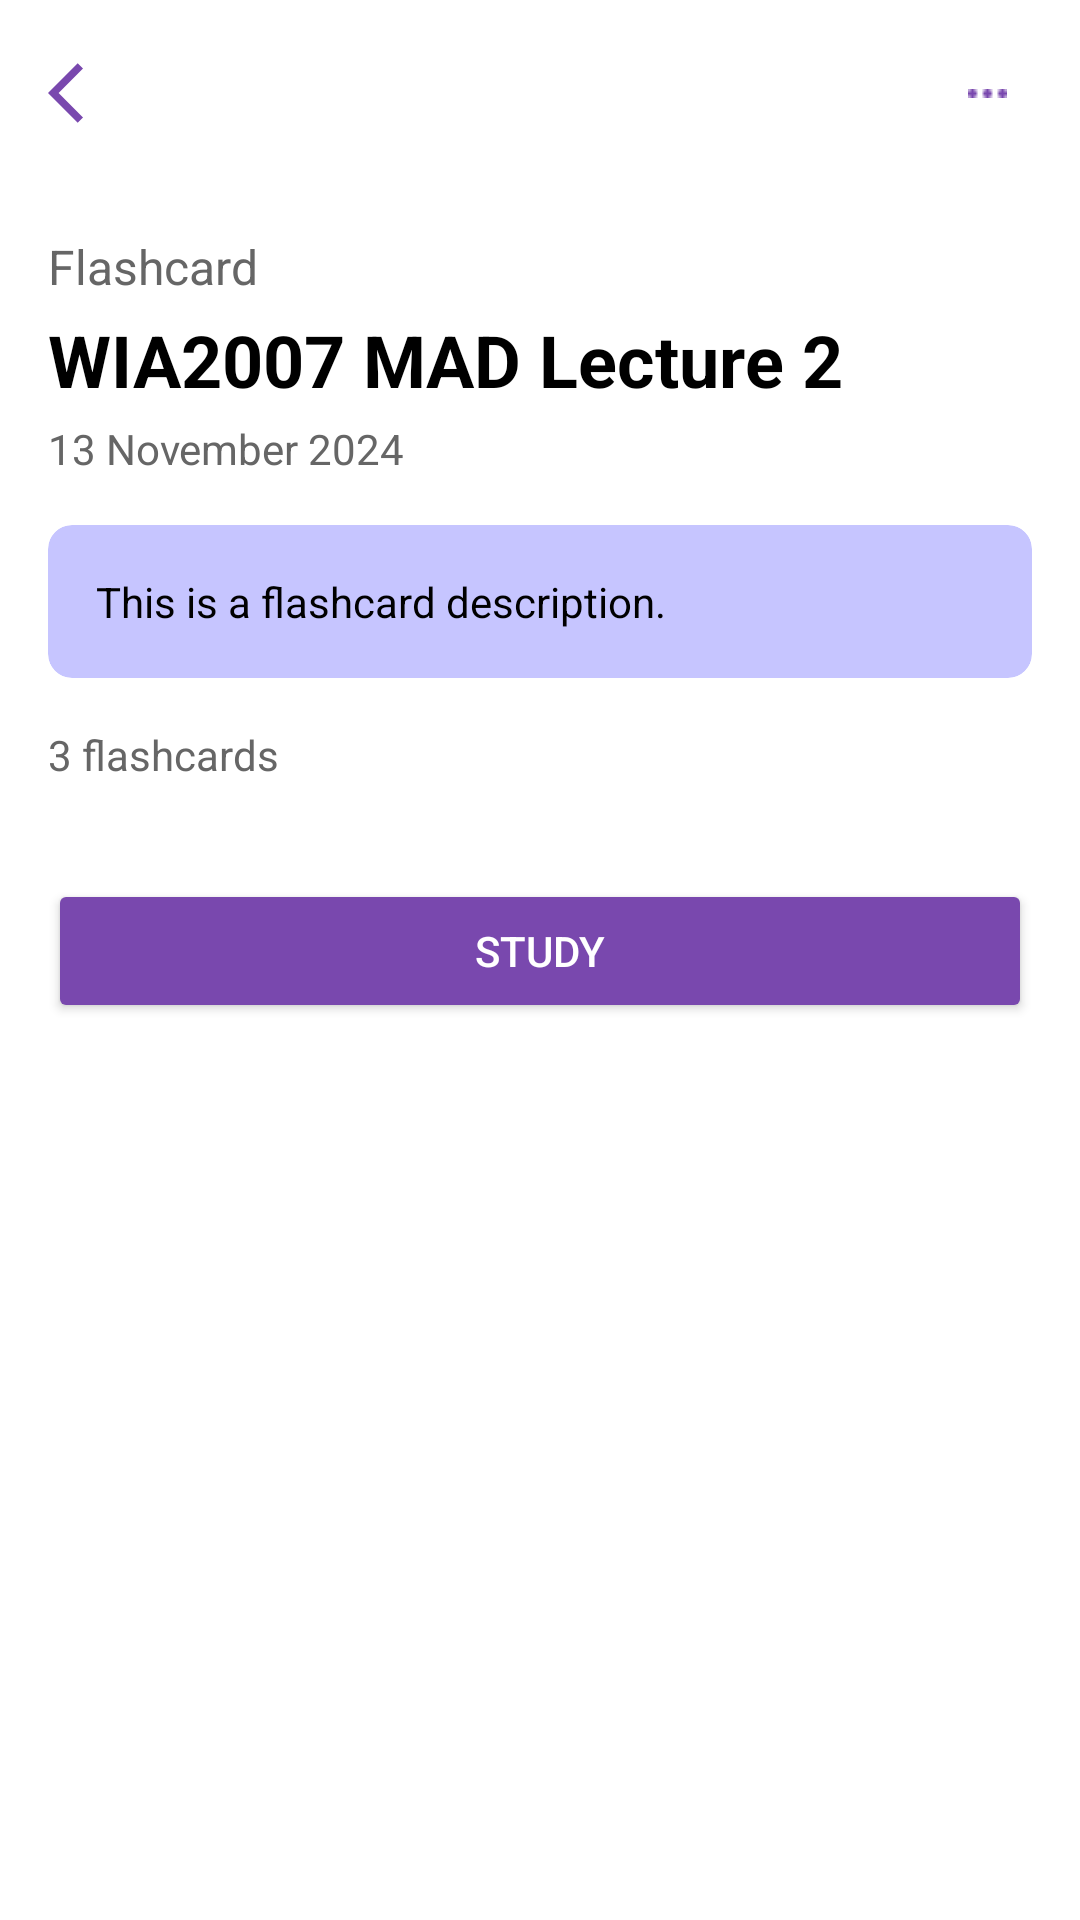

Point at icon controls on the screen. Image size 1080×1920, points as (x,y).
Back: (65,93)
Menu: (987,93)
